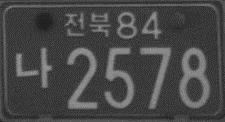2: (66, 46, 99, 111)
4: (140, 9, 162, 40)
5: (104, 45, 135, 110)
7: (137, 45, 174, 110)
8: (177, 45, 210, 110), (116, 9, 138, 41)
나: (14, 44, 52, 91)
전북_O: (62, 11, 111, 39)
